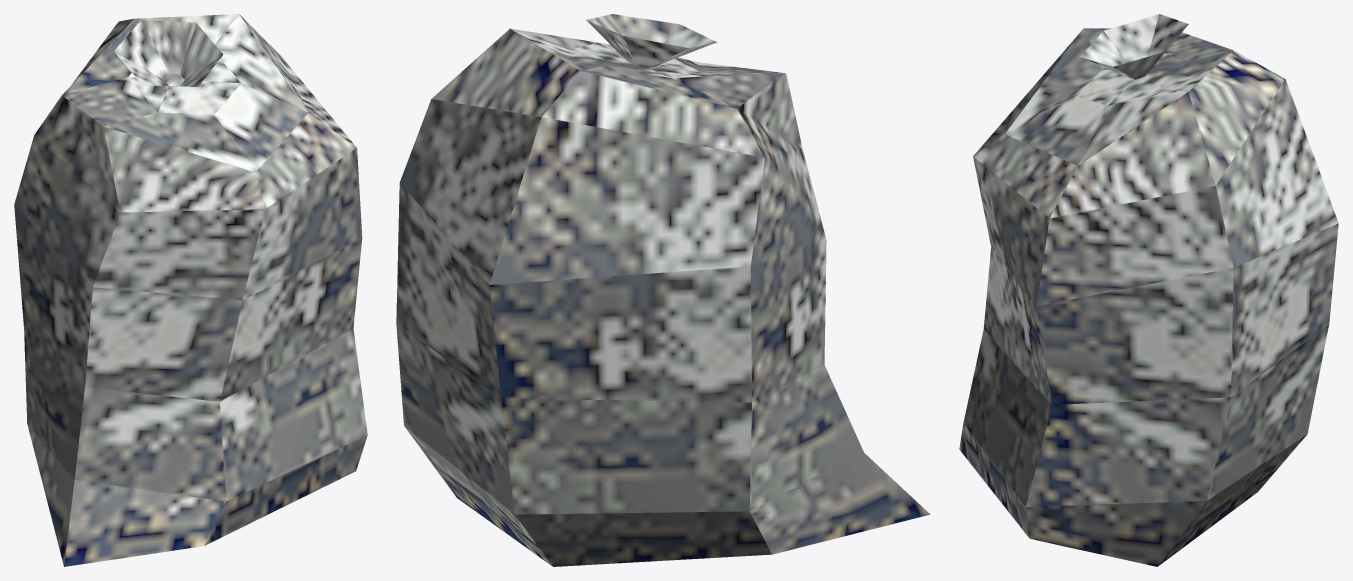
The model's file is basura3.fbx.
3 views of the same model, side by side, from view 1: azimuth 30°, elevation 25°; view 2: azimuth 150°, elevation 25°; view 3: azimuth 270°, elevation 25° (orthographic). The views are drawn at different scales.
Parts seen in each view (by area): view 1: trashbag_2_white; view 2: trashbag_2_white; view 3: trashbag_2_white.
Part boxes in pixels (x1=…): trashbag_2_white: x1=14, y1=14, x2=367, y2=566; trashbag_2_white: x1=396, y1=14, x2=930, y2=566; trashbag_2_white: x1=959, y1=14, x2=1338, y2=566.
Size of the model in its own units: 85.55 by 104 by 77.44.
